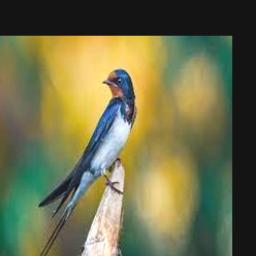Swallow: (38, 69, 135, 256)
